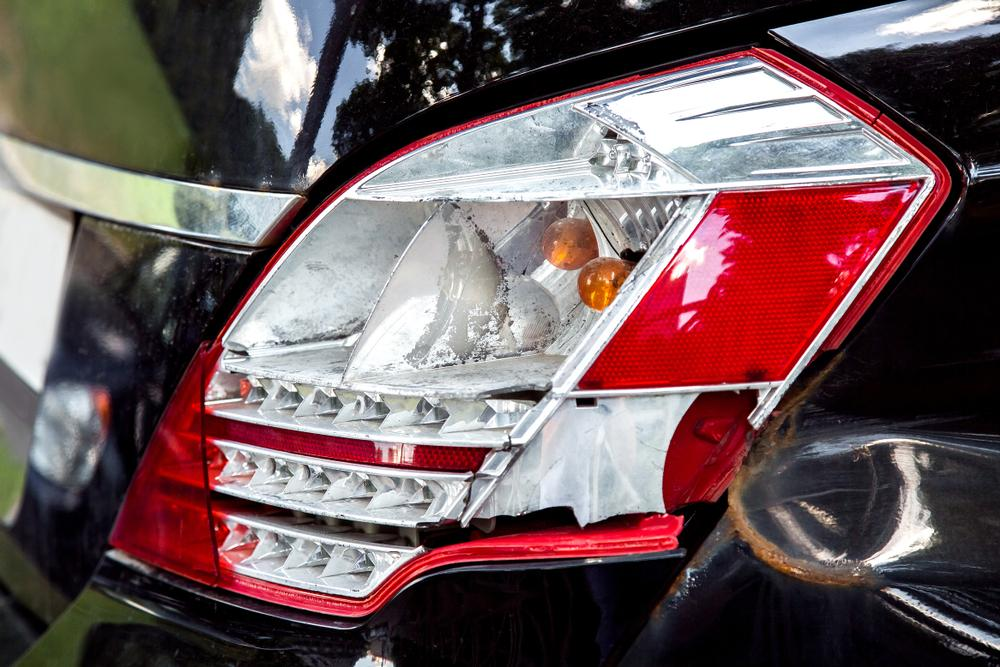dent: (731, 404, 942, 570)
lamp broken: (105, 44, 955, 617)
